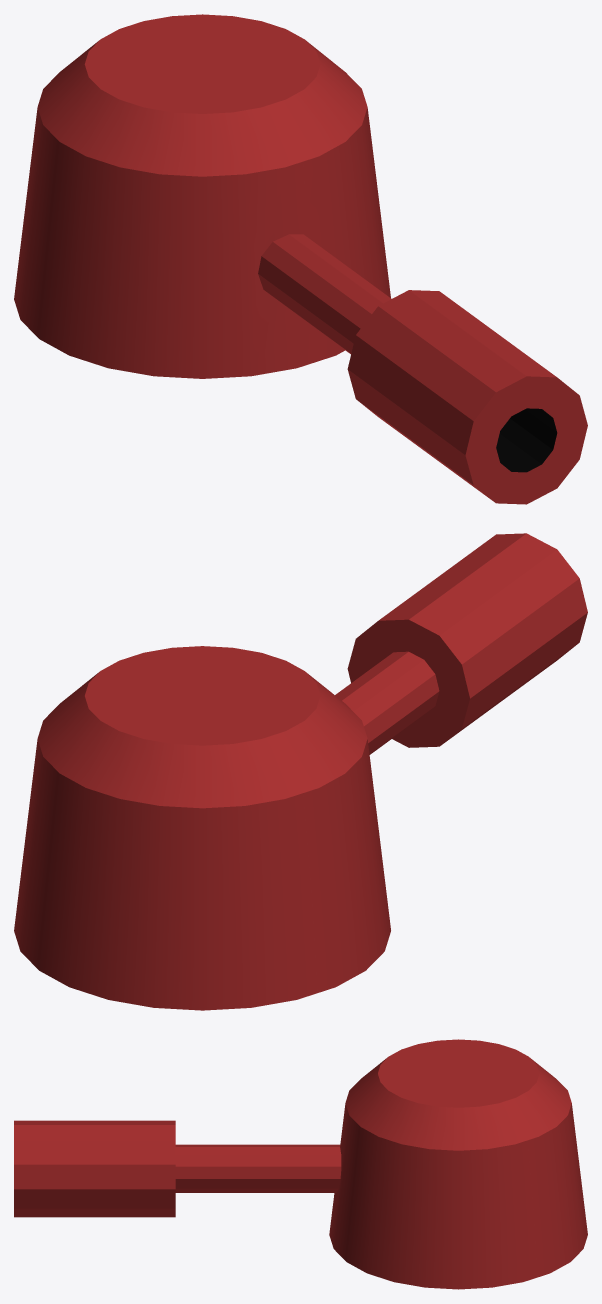
File: EnemyTurret.fbx
3 renders of one model, top to bottom at view 1: azimuth 30°, elevation 25°; view 2: azimuth 150°, elevation 25°; view 3: azimuth 270°, elevation 25°, orthographic. The views are drawn at different scales.
Visible parts, largest first — view 1: Group1; view 2: Group1; view 3: Group1.
Part boxes in pixels (x1=…): Group1: x1=14, y1=14, x2=587, y2=504; Group1: x1=14, y1=533, x2=587, y2=1010; Group1: x1=14, y1=1039, x2=587, y2=1289.
Size of the model in its own units: 19.89 by 13.67 by 44.13.
